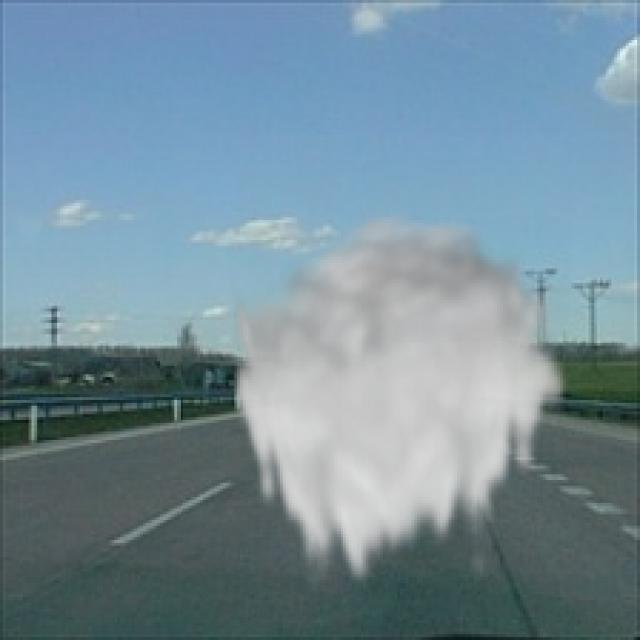Smoke: (228, 205, 572, 598)
